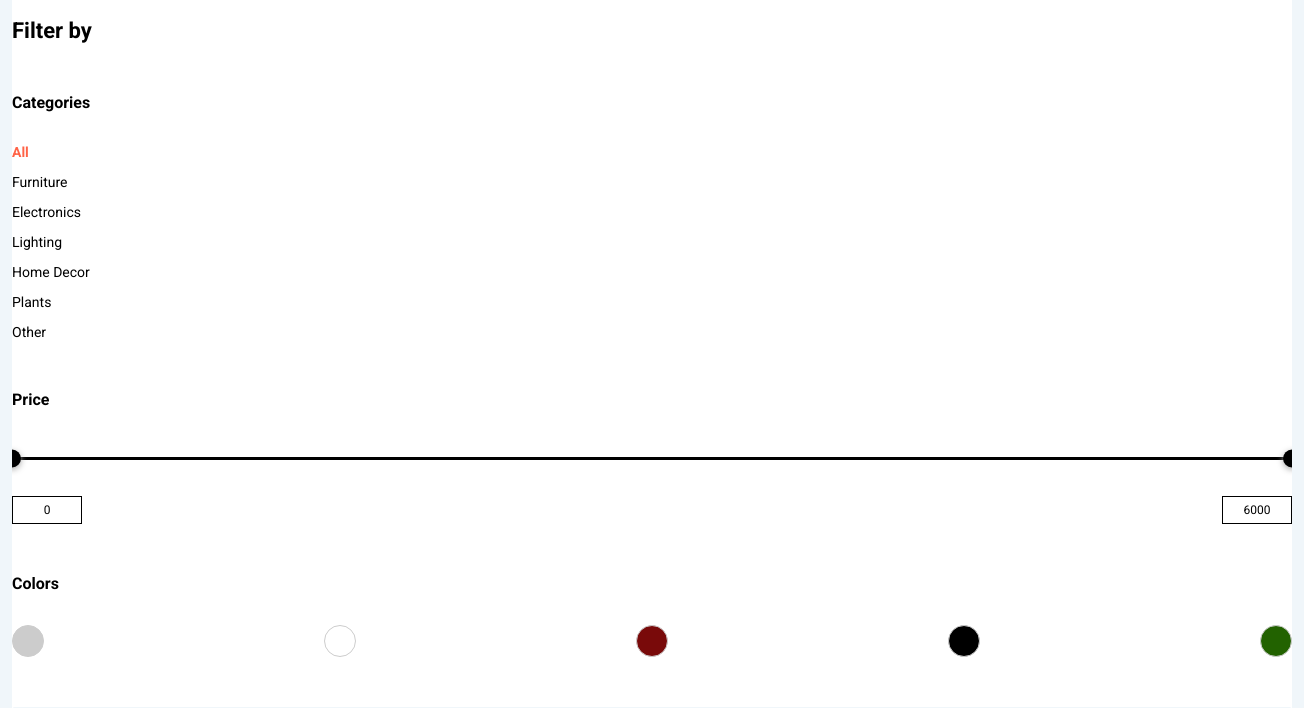
<Filters /> › renders and working correctly
Expected: the heading "Categories" is shown, [12,93,90,112]
Expected: the heading "Price" is shown, [12,390,49,409]
Click the text "Furniture". click: point(40, 182)
box: [12,174,68,190]
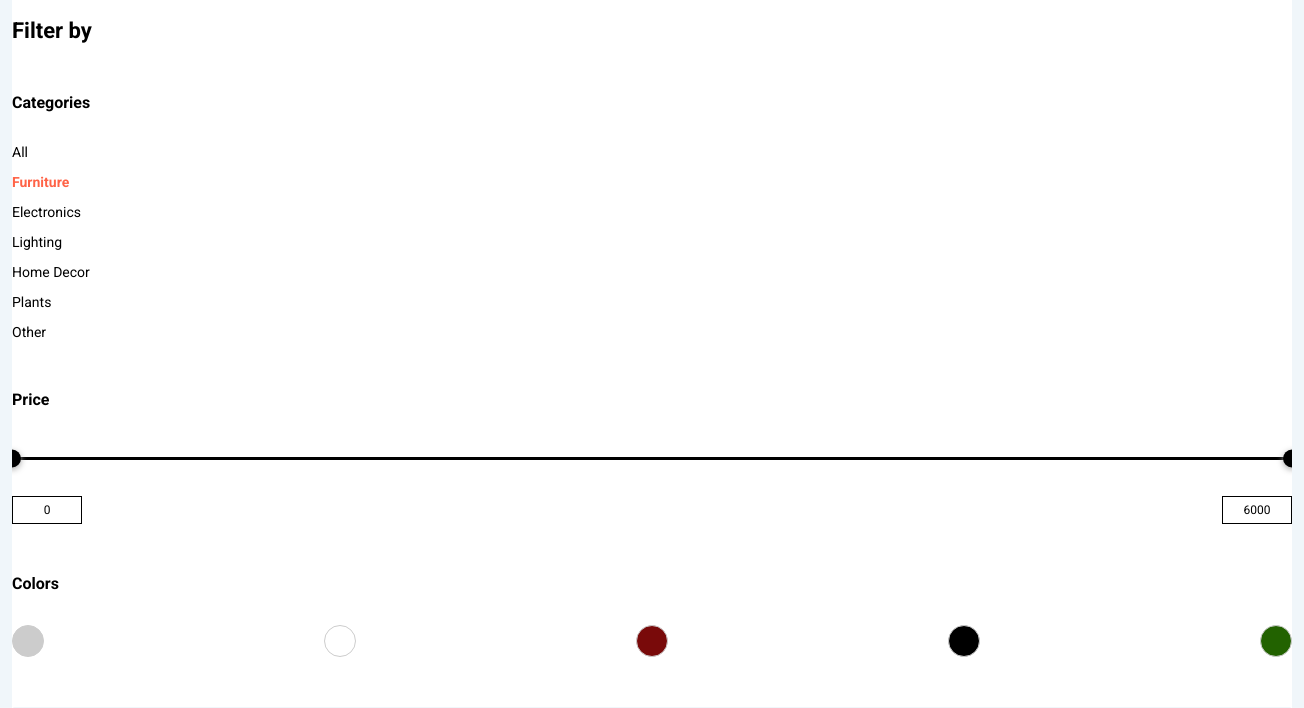
Expected: the text "Furniture" has class "categories__item-selected", [12,174,69,190]
Click the checkbox showing "Gray". click: point(28, 641)
box: [12,625,44,657]
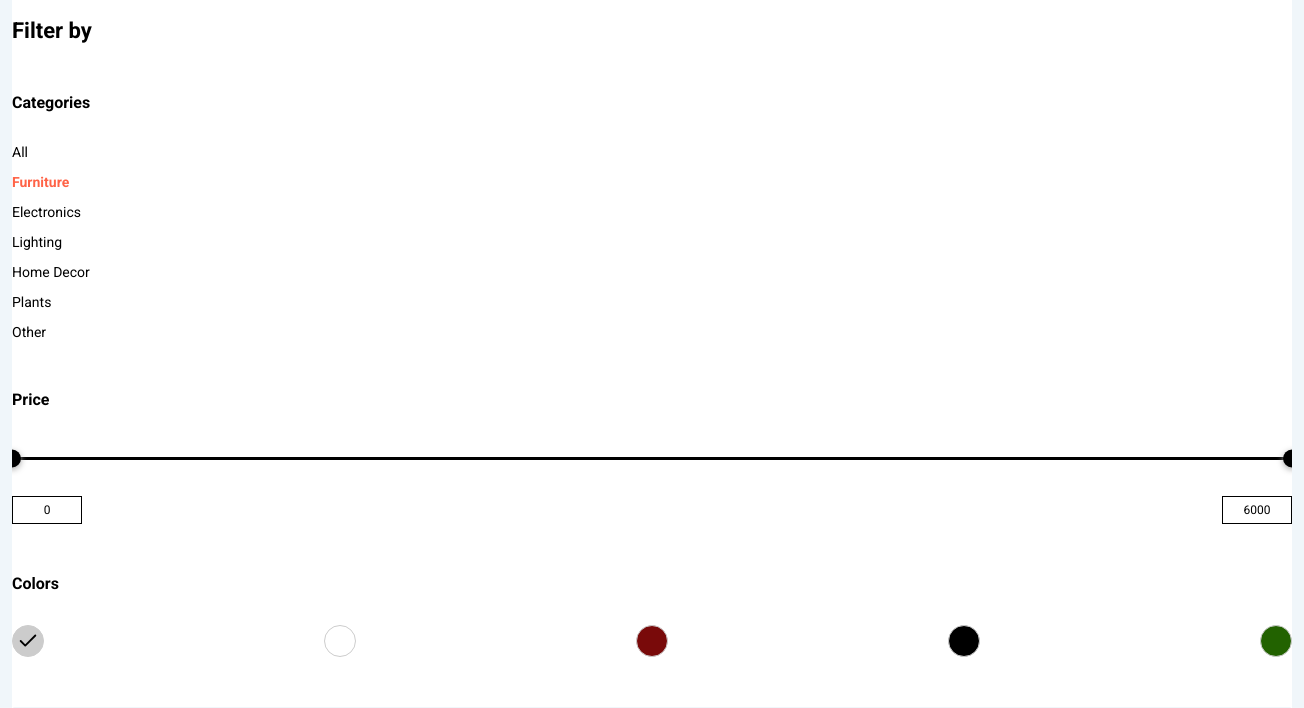
Expected: the icon with test id "color-check-icon" is shown, [17,630,39,652]
